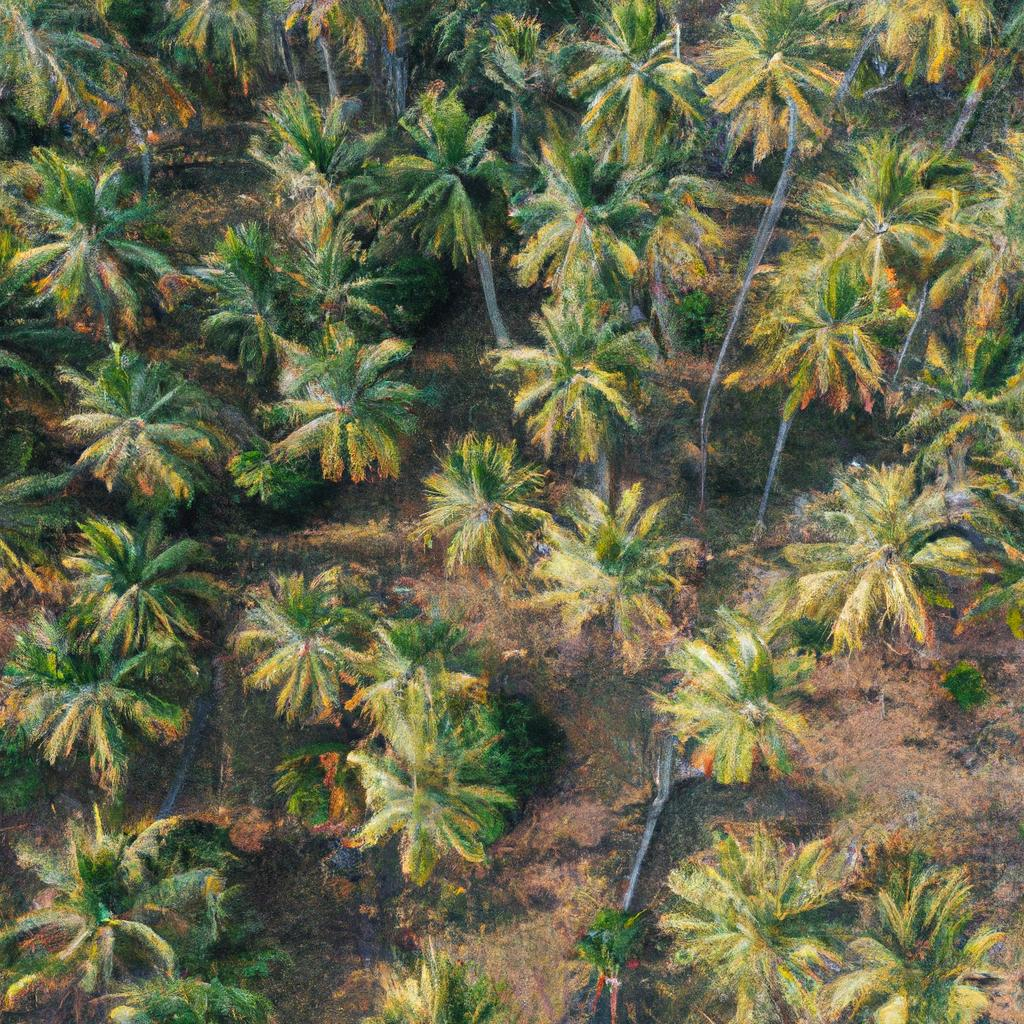coconut_tree: (8, 140, 216, 334), (640, 626, 853, 812), (753, 453, 972, 631), (650, 815, 858, 999), (353, 639, 513, 878), (485, 291, 675, 477), (50, 343, 224, 508), (12, 813, 205, 958), (229, 558, 401, 718), (255, 310, 413, 481), (61, 504, 226, 666), (534, 486, 699, 647), (750, 248, 902, 416), (562, 4, 710, 172), (705, 1, 867, 154), (381, 94, 528, 261), (397, 431, 551, 585)
